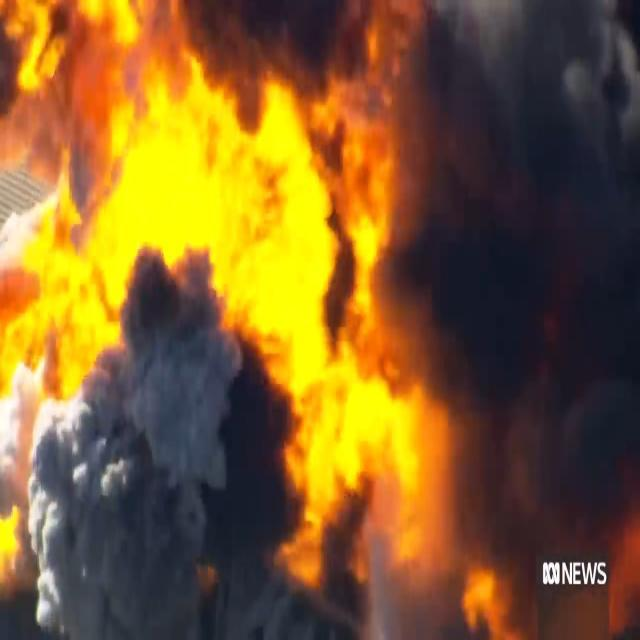fire: (0, 0, 129, 517), (262, 87, 347, 370), (136, 78, 240, 262), (292, 361, 420, 476), (347, 48, 410, 177), (350, 180, 390, 314), (231, 136, 276, 251), (222, 221, 267, 323), (296, 488, 338, 580), (99, 0, 168, 55), (463, 576, 519, 638), (0, 508, 23, 578)
